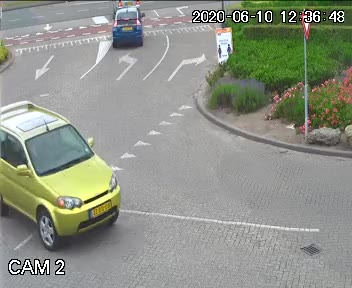car: (0, 96, 137, 253), (108, 12, 142, 50)
